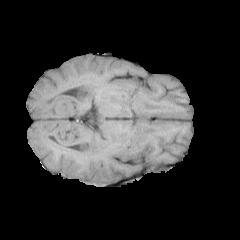glioma: (67, 112, 148, 159)
